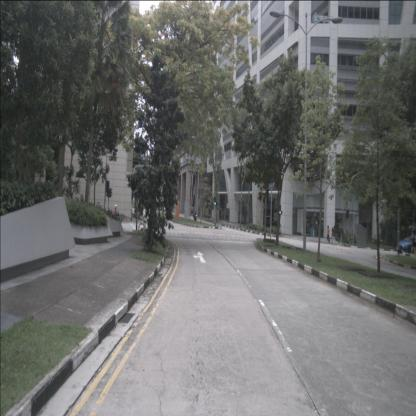human-pedestrian-adult: (409, 231, 416, 258), (330, 227, 335, 246), (326, 225, 330, 244)
vehicle-bicycle: (139, 218, 156, 235)
vehicle-car: (396, 235, 416, 253)
vehicle-motorcycle: (111, 204, 122, 224), (193, 209, 197, 221)
